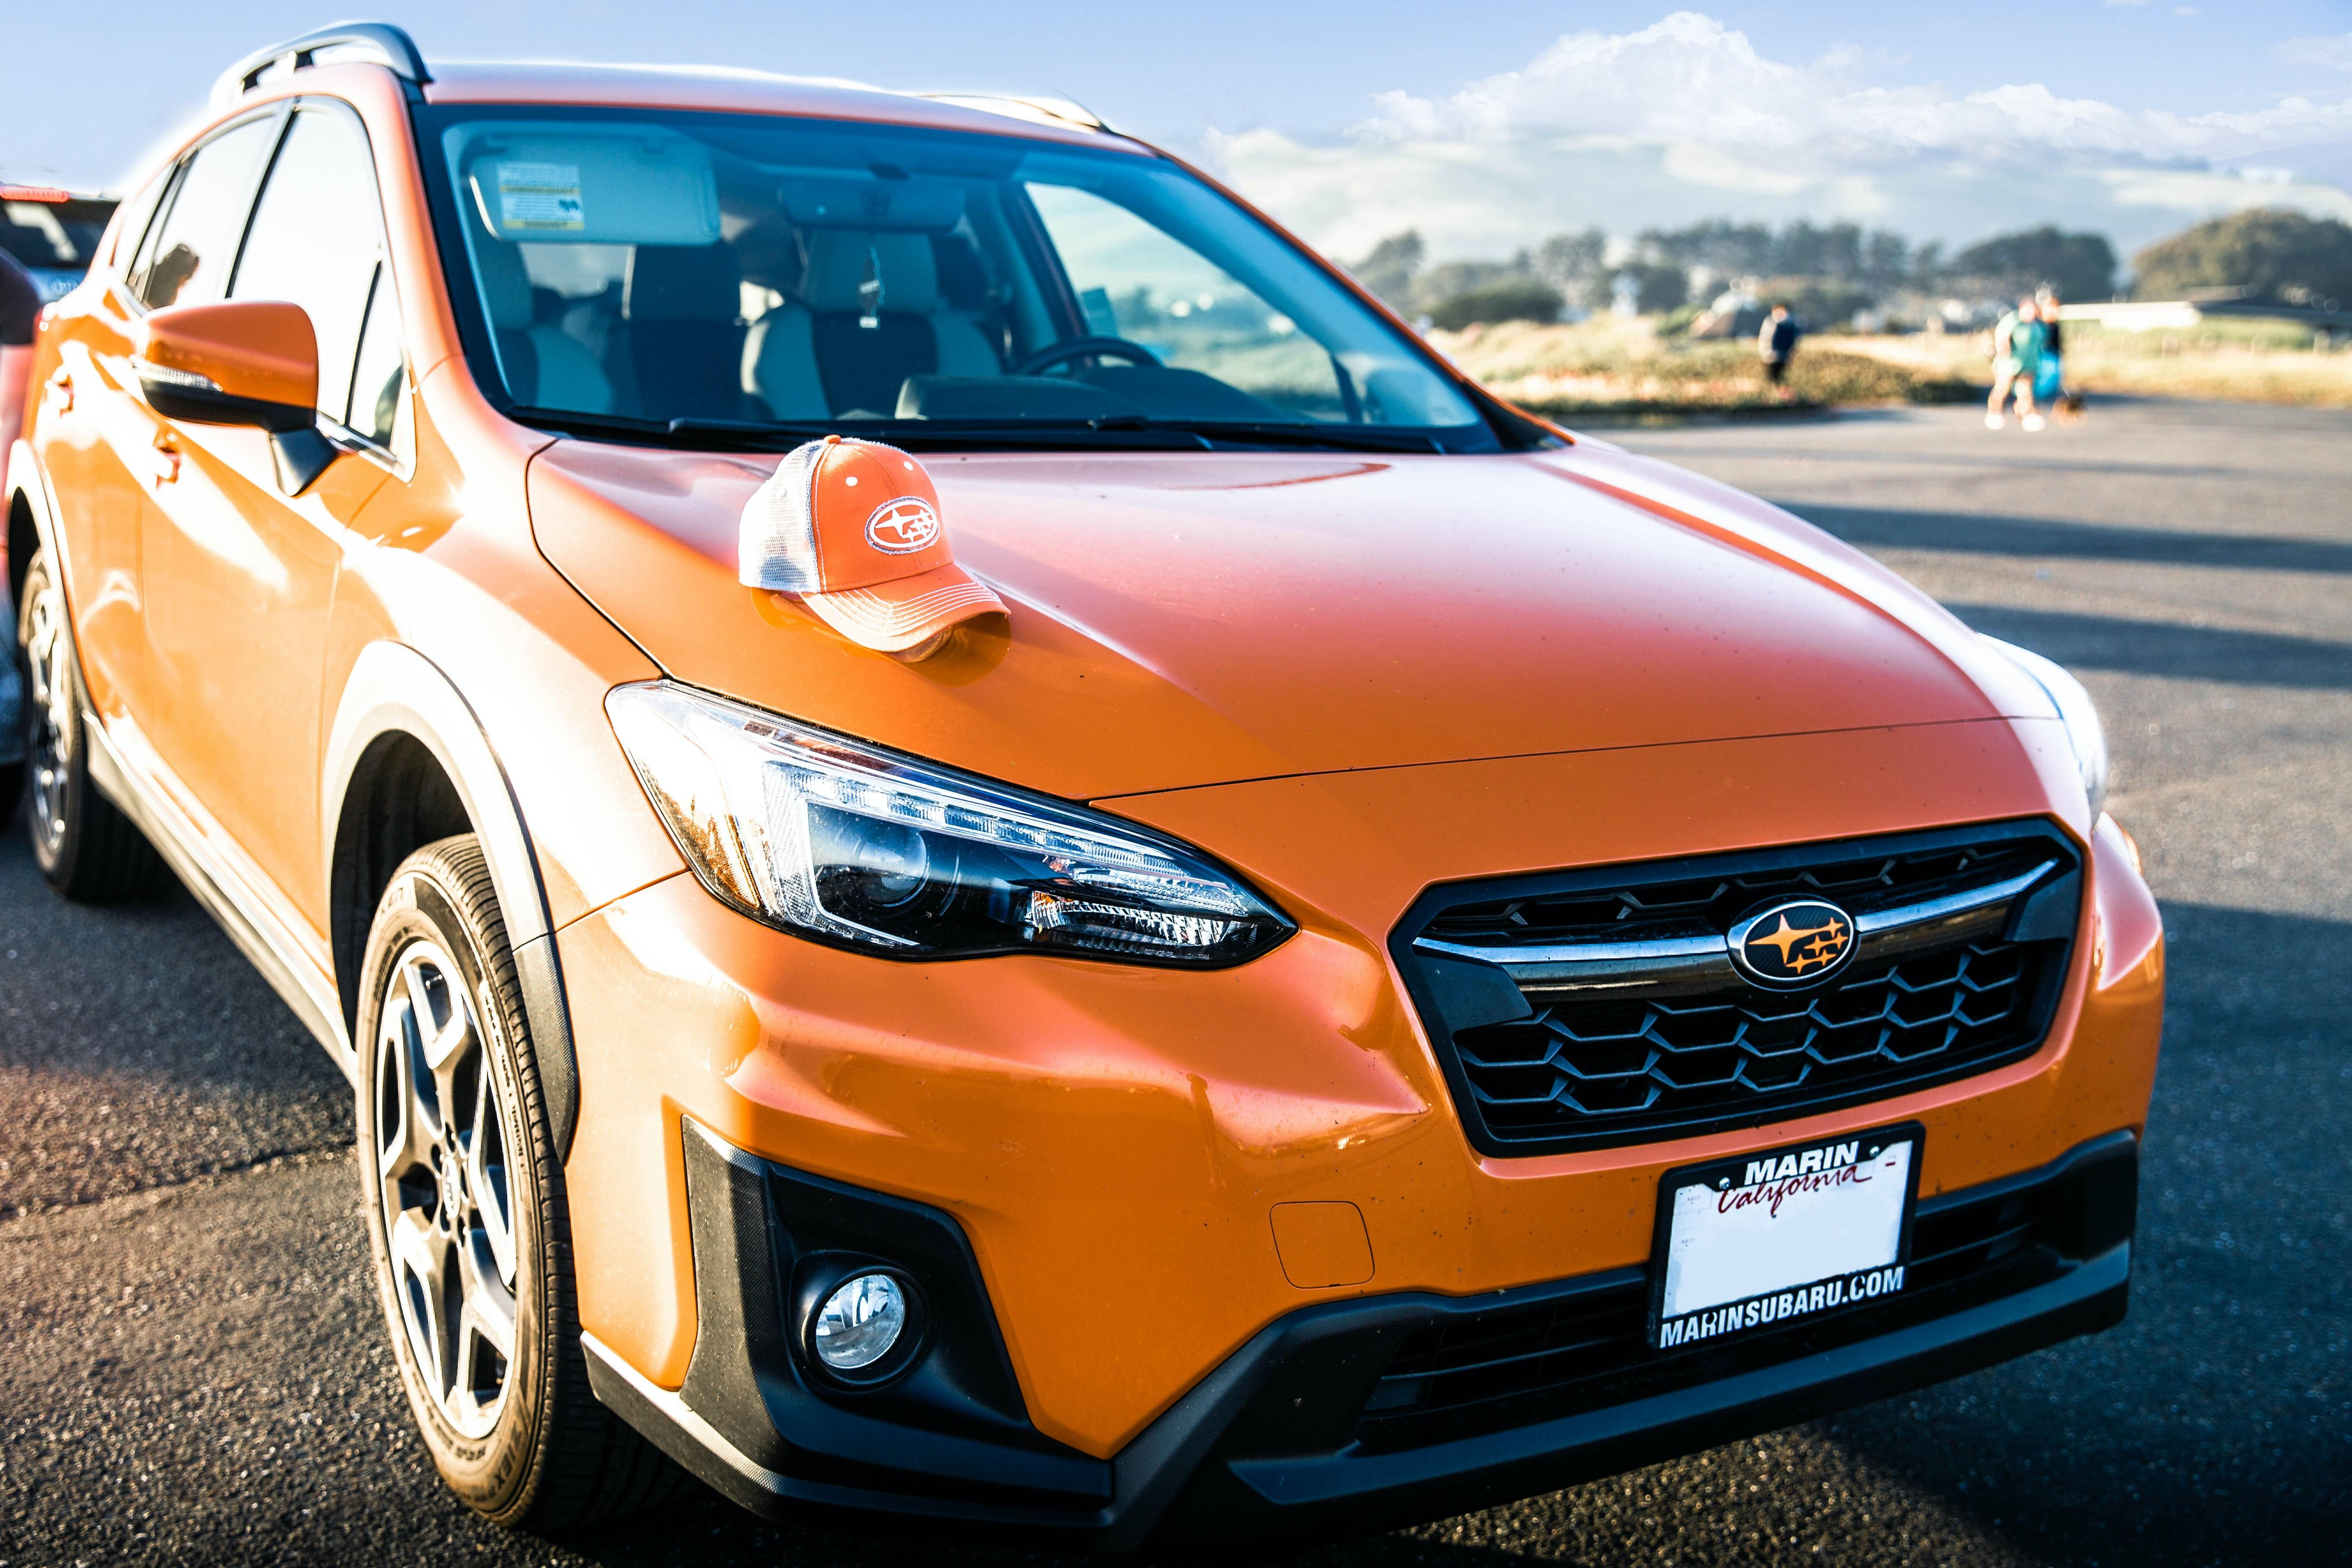subaru: (1694, 861, 1885, 1004)
